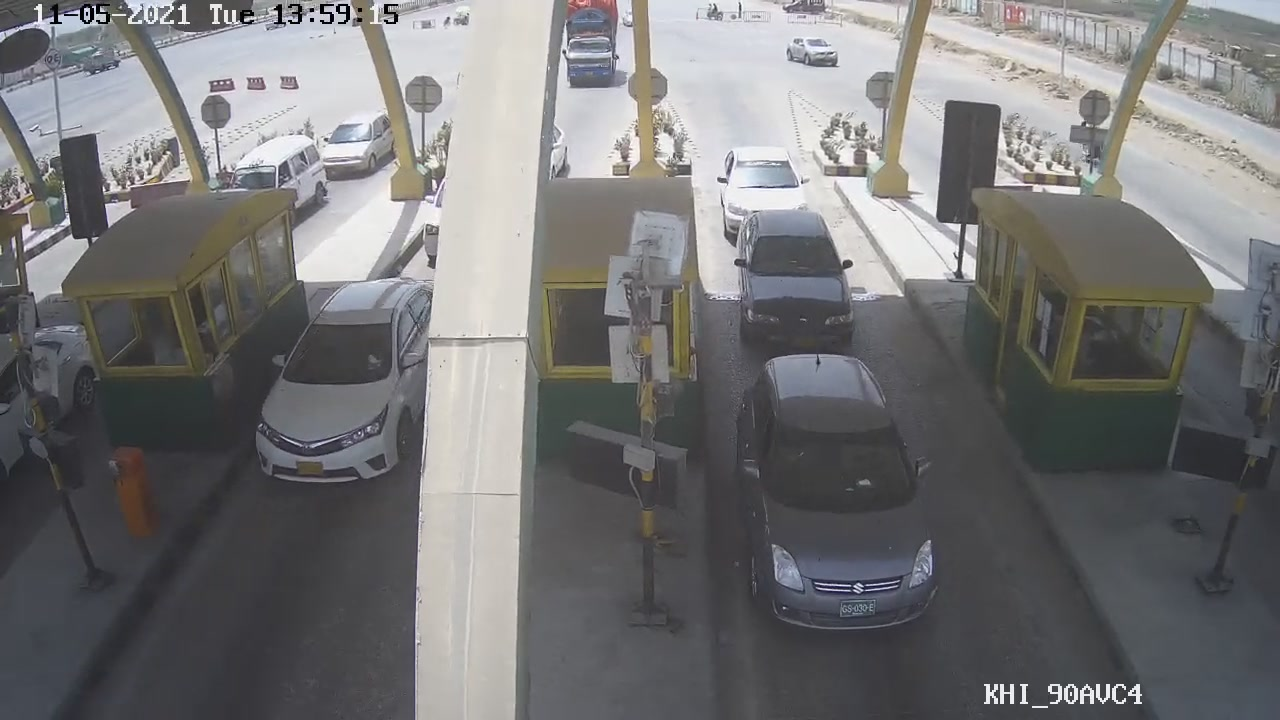F1: (726, 350, 945, 645), (729, 202, 872, 354)
